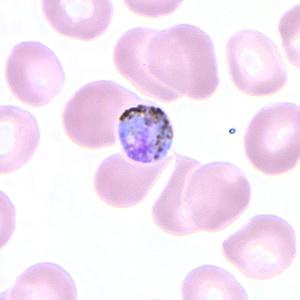Infected: (119, 102, 172, 163)
Uninfected: (113, 25, 187, 104), (147, 23, 220, 102), (63, 81, 141, 151), (221, 212, 298, 282), (94, 147, 173, 209), (184, 160, 251, 233), (225, 30, 291, 98), (244, 100, 300, 174), (6, 41, 68, 107), (39, 0, 114, 39), (1, 103, 40, 175), (180, 264, 252, 300), (13, 261, 78, 300)
